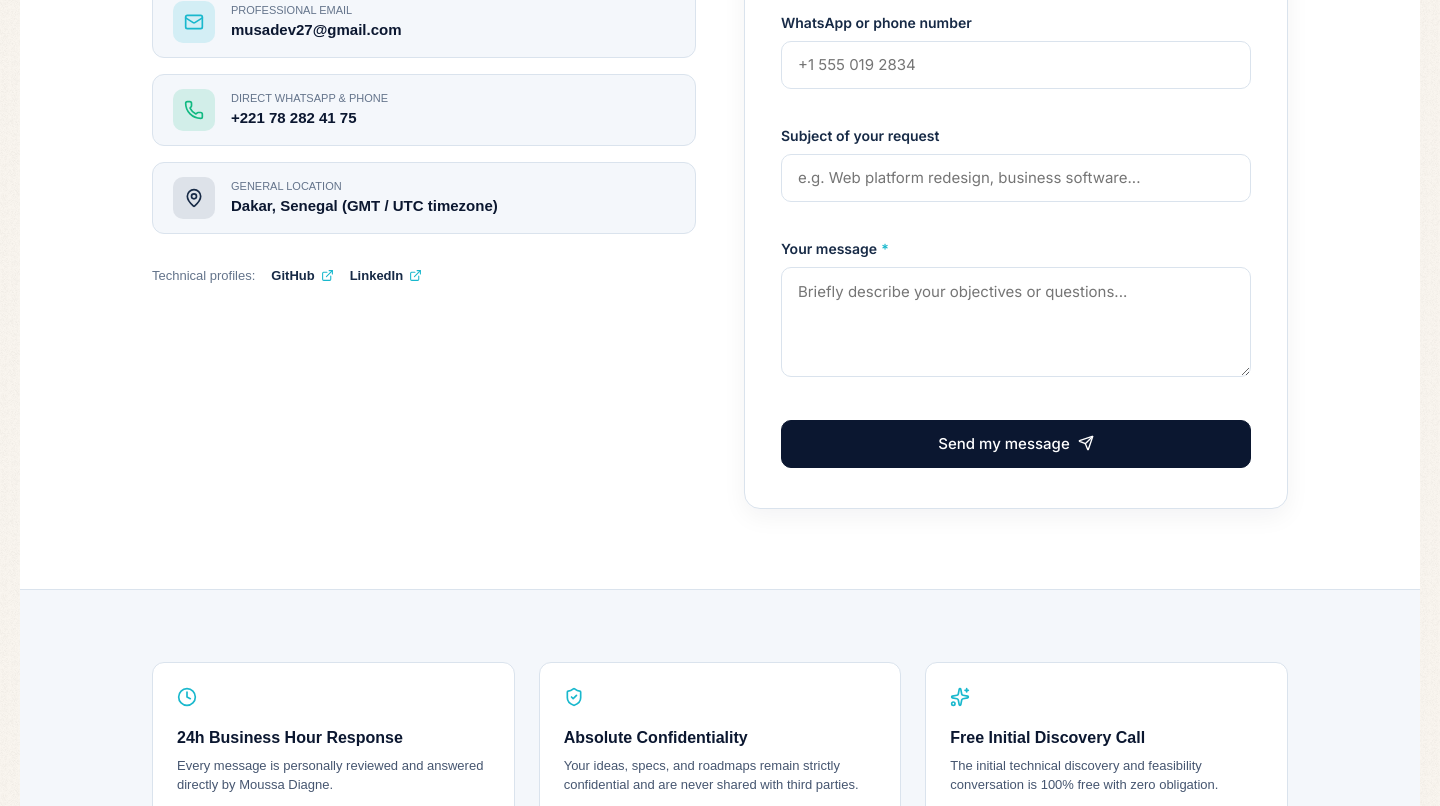
Test case: MusaTech Bilingual Sub-pages Integration Tests (/en/...) › 4. About, Contact, Legal & Privacy Pages in English › renders /en/contact with English channels and handles form error validation in English
The image size is (1440, 806).
(page scrolled)
Expected: the text "Professional Email" is shown, [231, 4, 352, 16]
Expected: the text "Direct WhatsApp & Phone" is shown, [231, 90, 388, 106]
// Form validation check
Click the button "Send my message" at (1016, 444), box [781, 420, 1251, 468]
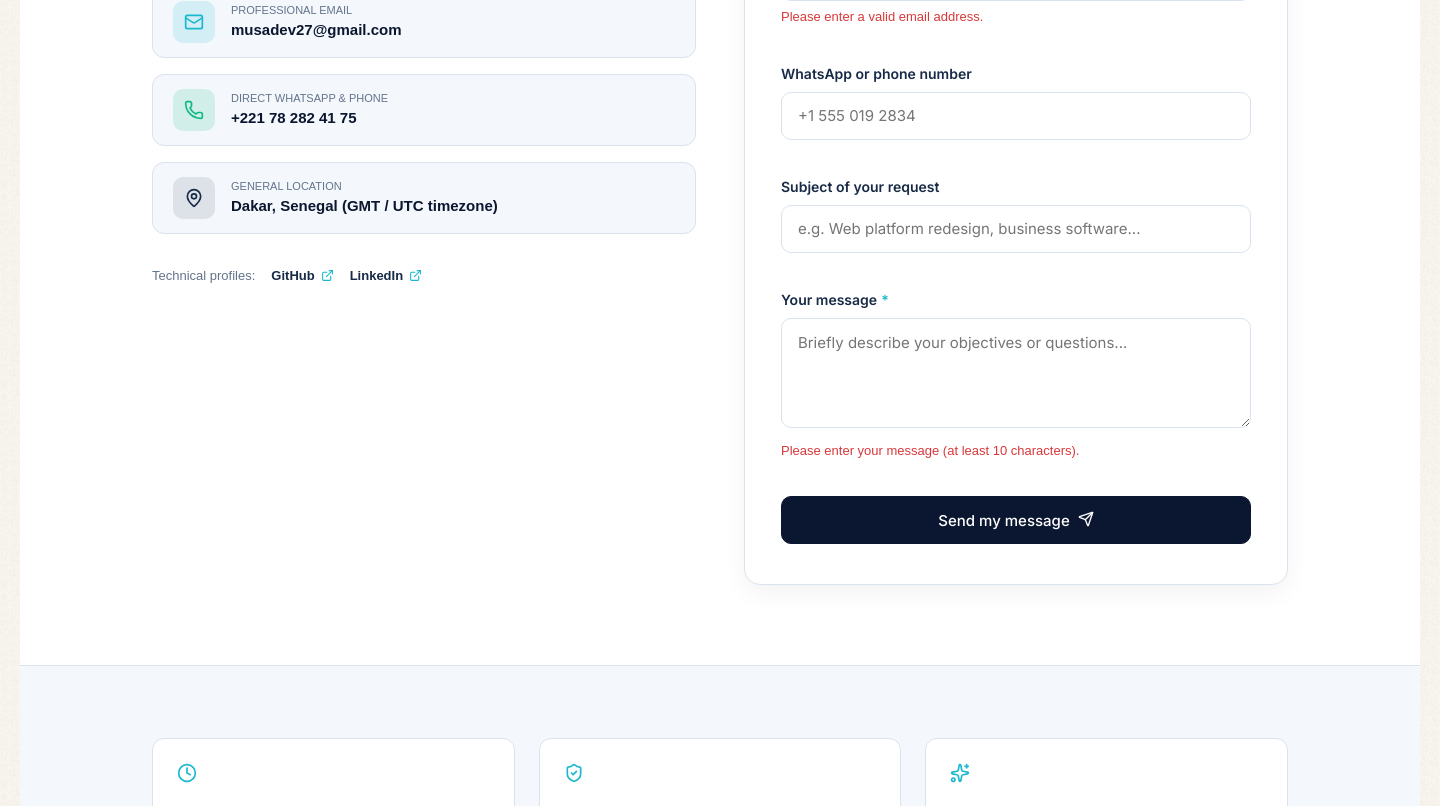
Result: the text "Please enter a valid email address." is shown at [781, 9, 983, 24]
Result: the text "Please enter your message (at least 10 characters)." is shown at [781, 442, 1079, 458]
